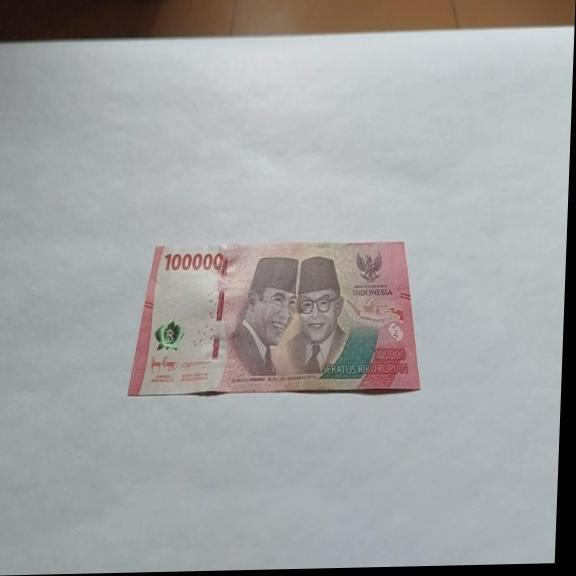Kertas: (127, 236, 426, 400)
